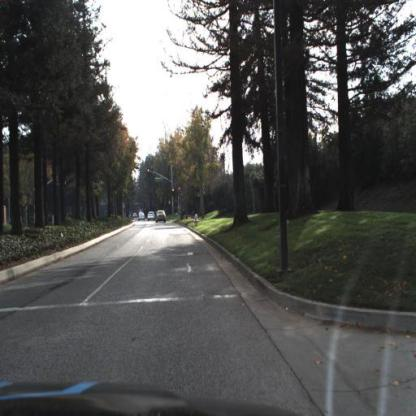car: (156, 209, 168, 225), (157, 209, 167, 225), (146, 209, 157, 223), (138, 211, 147, 223), (148, 212, 157, 224), (138, 212, 146, 222)
trafficLight-Red: (178, 185, 183, 200), (147, 167, 152, 180), (172, 187, 176, 198)
